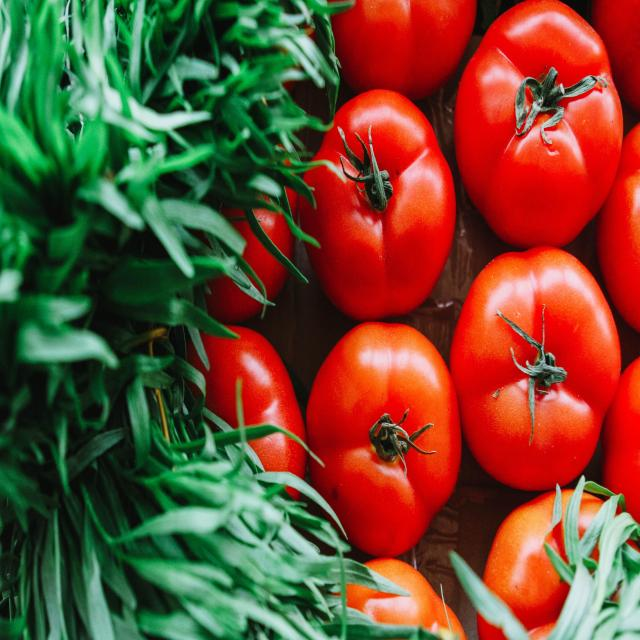Tomato: (441, 249, 618, 508), (444, 0, 615, 244), (293, 316, 462, 554), (304, 86, 458, 332)
